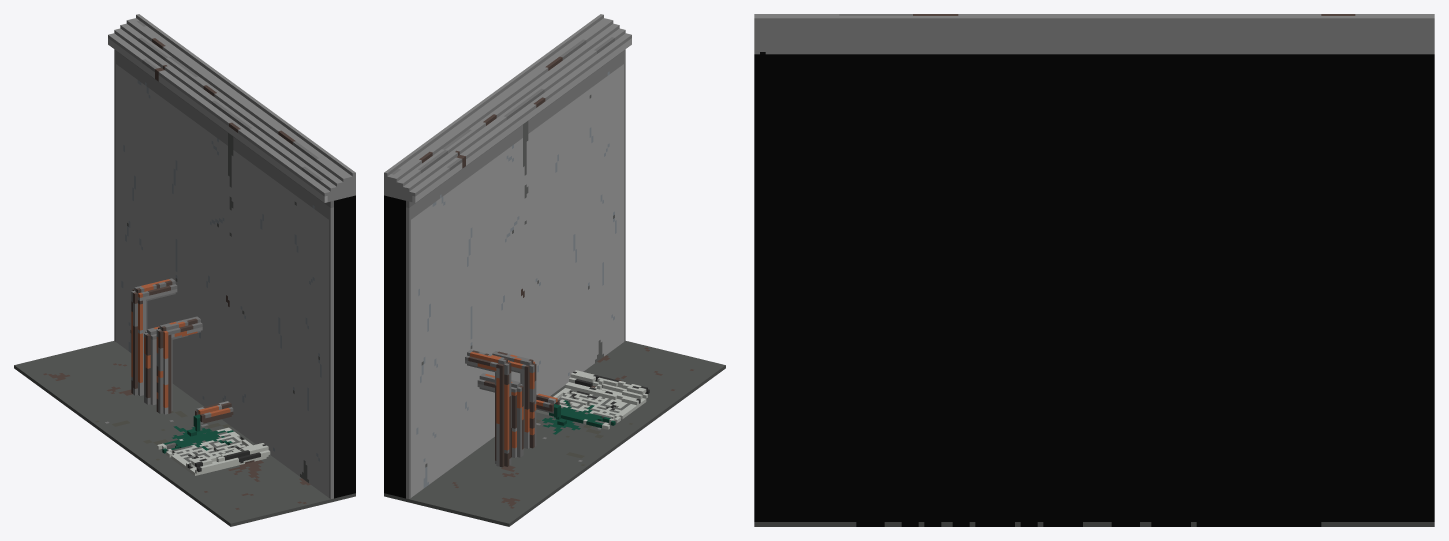
File: Parede_Portao_00.obj
3 renders of one model, left to right at view 1: azimuth 30°, elevation 25°; view 2: azimuth 150°, elevation 25°; view 3: azimuth 270°, elevation 25°, orthographic. The views are drawn at different scales.
Bounding box in the file's own units: 40 × 99 × 120.
1 material, 1 textured.
